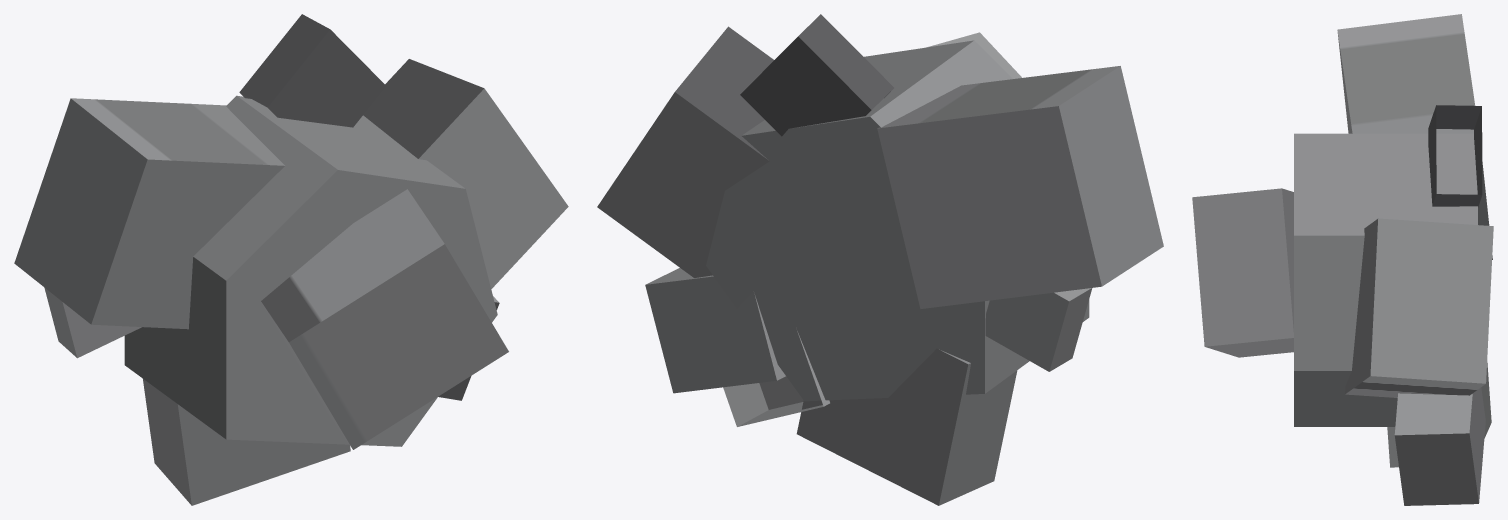
3 renders of one model, left to right at view 1: azimuth 30°, elevation 25°; view 2: azimuth 150°, elevation 25°; view 3: azimuth 270°, elevation 25°, orthographic. The views are drawn at different scales.
Bounding box in the file's own units: 0.5724 × 0.4713 × 0.3317.
